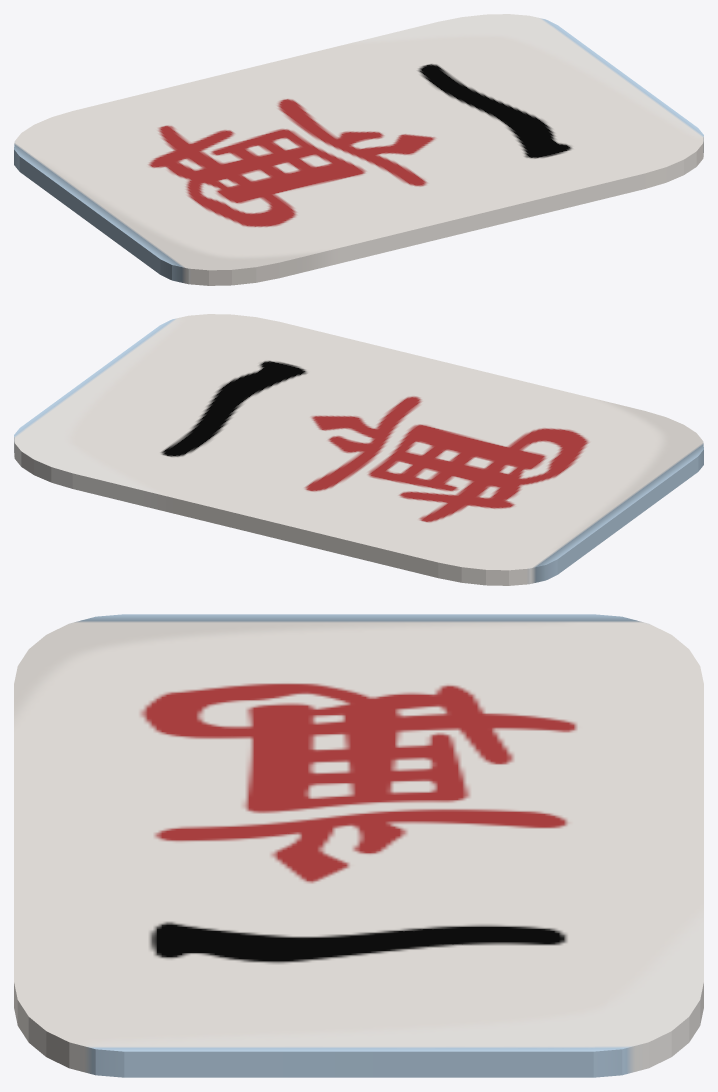
The model's file is majong_2.obj.
3 renders of one model, top to bottom at view 1: azimuth 30°, elevation 25°; view 2: azimuth 150°, elevation 25°; view 3: azimuth 270°, elevation 25°, orthographic. The views are drawn at different scales.
Parts seen in each view (by area): view 1: majong_2; view 2: majong_2; view 3: majong_2.
Boxes of the visible parts, left/top/right/bottom form: majong_2: left=14, top=14, right=703, bottom=285; majong_2: left=14, top=314, right=703, bottom=585; majong_2: left=14, top=614, right=703, bottom=1077.
Bounding box in the file's own units: 1.8 × 0.05 × 1.2.
